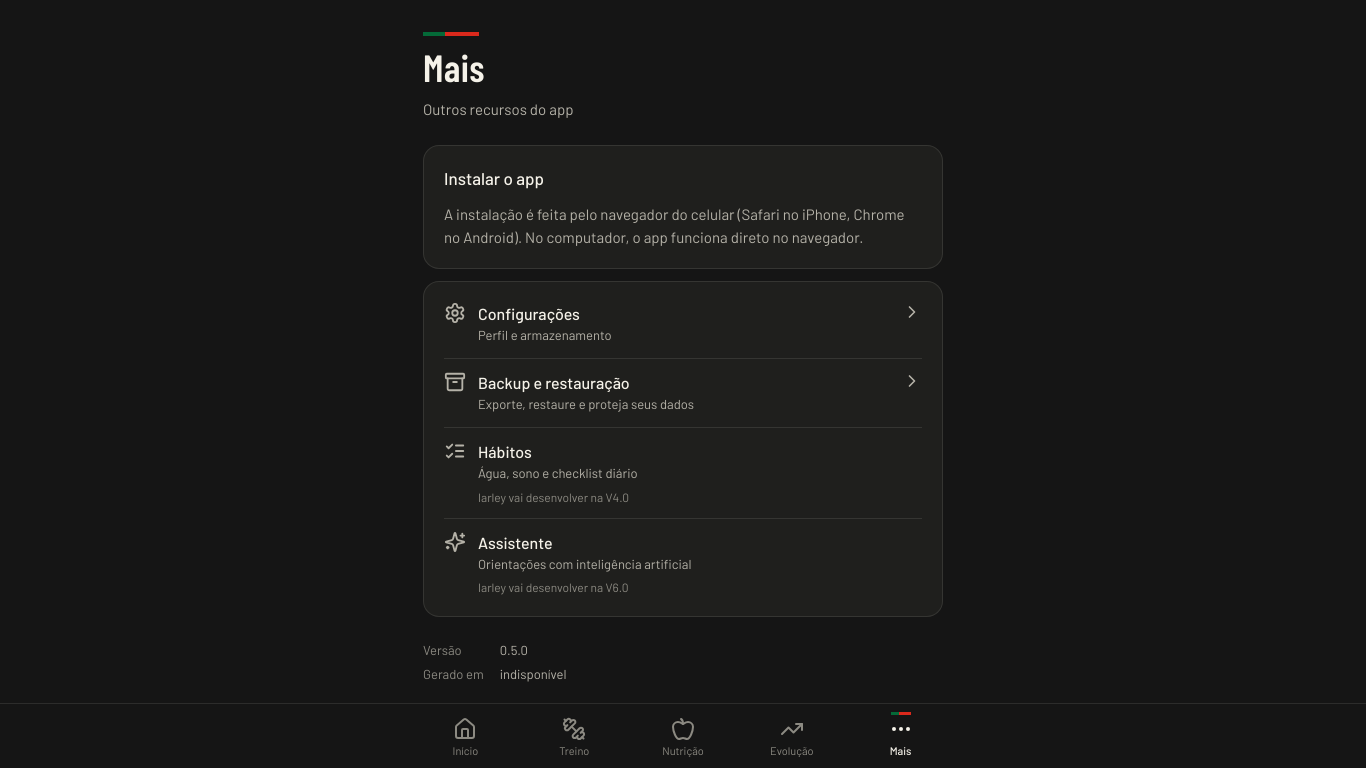
Configurações › abre pela tela Mais
What coordinates should you click on to do the following:
click the link "Configurações Perfil e armazenamento"
I would click on:
 (529, 314)
Its box is [444,302,922,346].
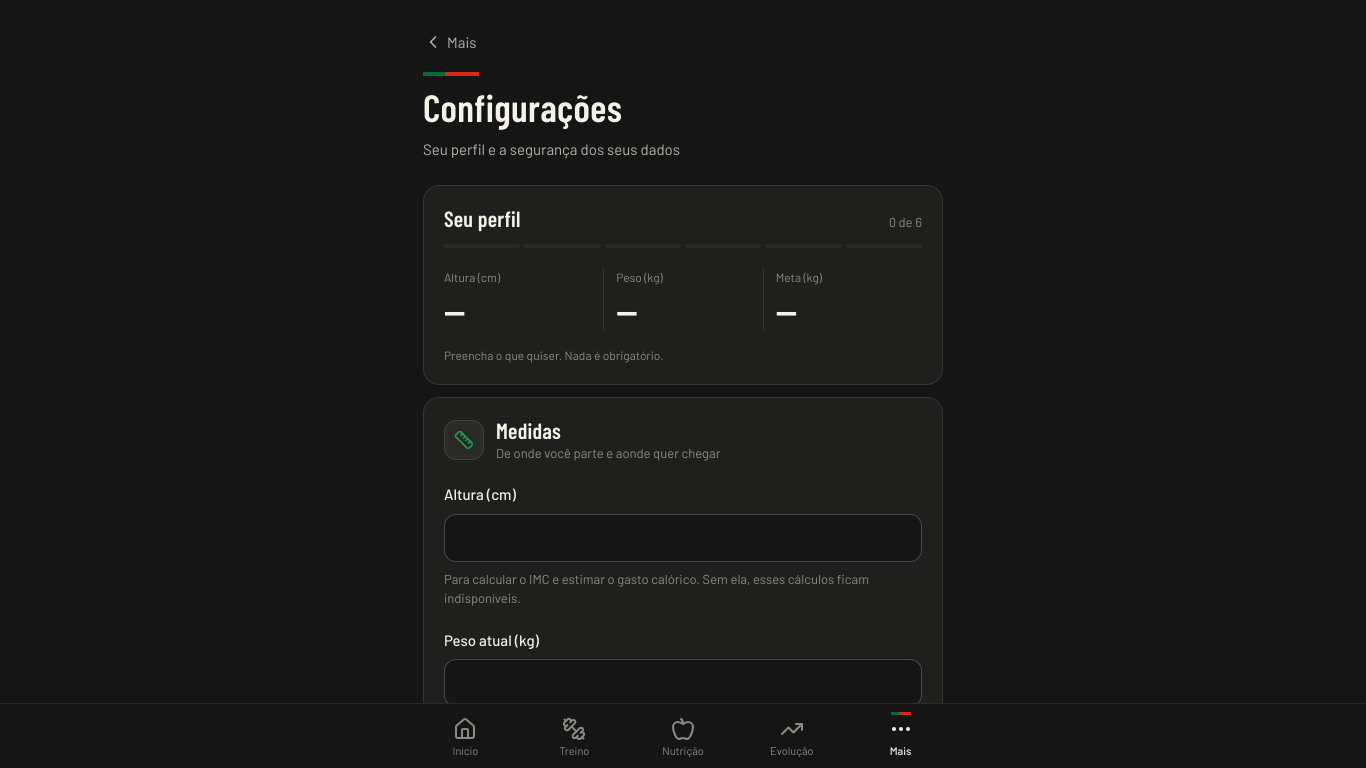
Now the heading "Configurações" is shown, box [423,84,622,130]
